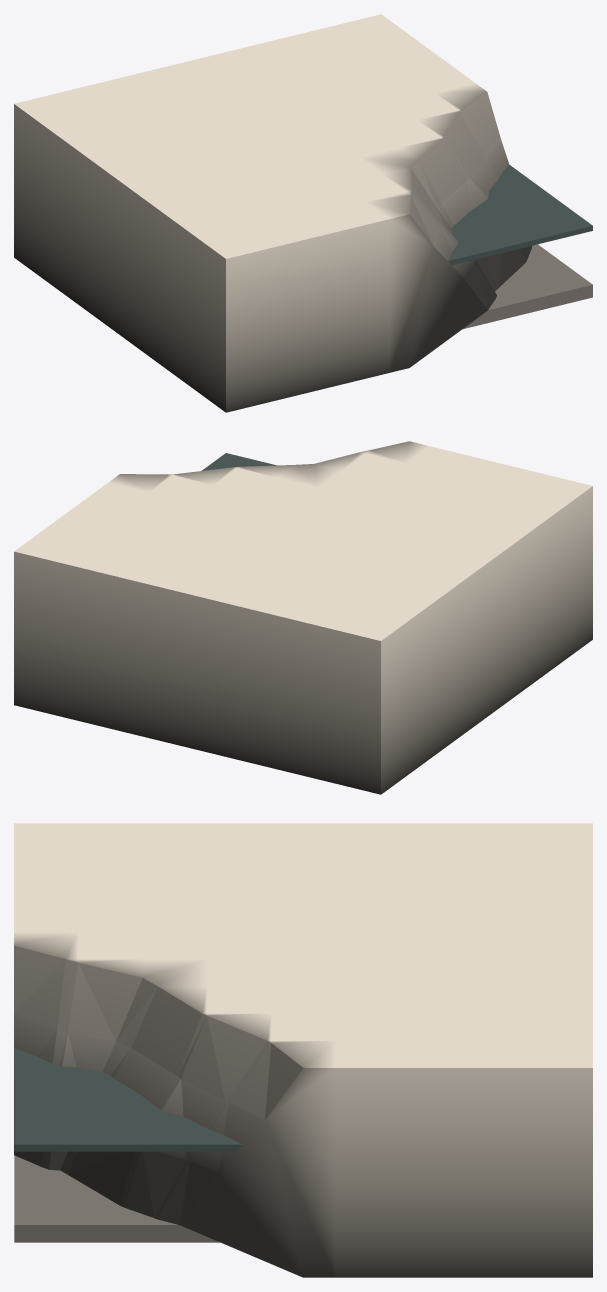
Rendered from SM_VKI_Ground_Stream_OXOO_Q00.fbx.
3 renders of one model, top to bottom at view 1: azimuth 30°, elevation 25°; view 2: azimuth 150°, elevation 25°; view 3: azimuth 270°, elevation 25°, orthographic. The views are drawn at different scales.
Visible parts, largest first — view 1: SM_VKI_Ground_Stream_OXOO_Q00.001; view 2: SM_VKI_Ground_Stream_OXOO_Q00.001; view 3: SM_VKI_Ground_Stream_OXOO_Q00.001.
Boxes of the visible parts, x1,y1,x2,y2 form: SM_VKI_Ground_Stream_OXOO_Q00.001: [14, 14, 592, 412]; SM_VKI_Ground_Stream_OXOO_Q00.001: [14, 441, 592, 794]; SM_VKI_Ground_Stream_OXOO_Q00.001: [14, 823, 592, 1277].
Size of the model in its own units: 1.5 by 0.6 by 1.5.
